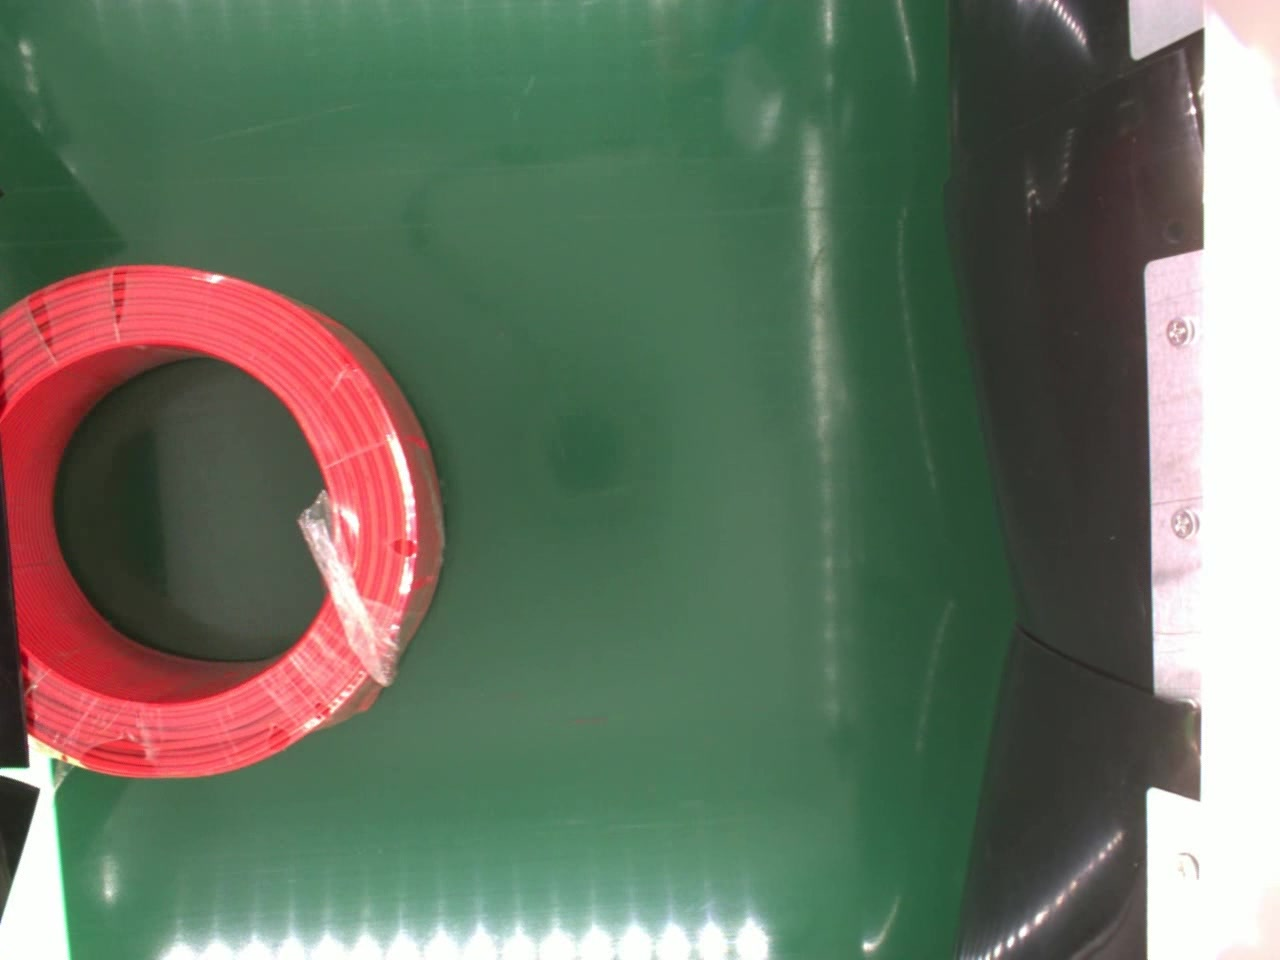red: (0, 259, 447, 781)
